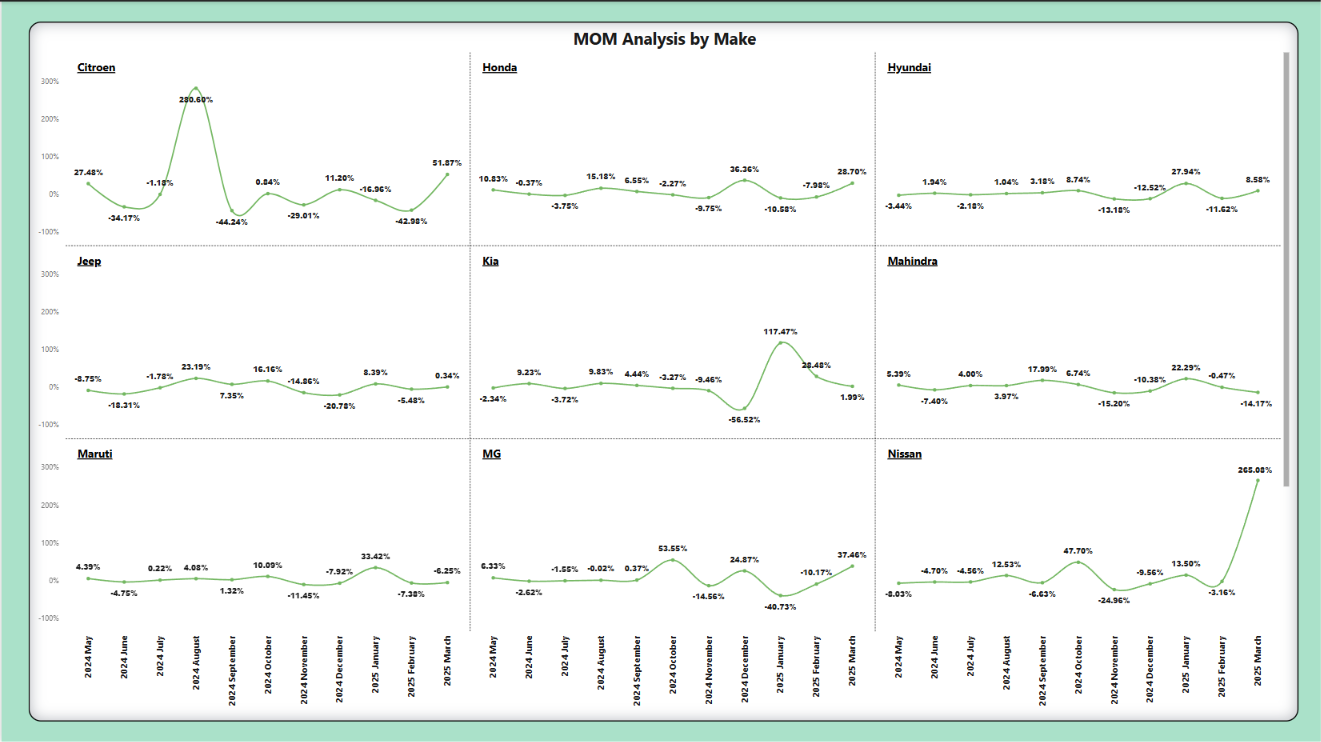

What the dashboard file says about the page in this screenshot:
{"tool":"powerbi","page":{"name":"MOM Analysis 1","canvas":[1920,1080],"ordinal":2},"visuals":[{"type":"image","box":[678.6,28.6,114.3,91.1],"z":0},{"type":"lineChart","title":"MOM Analysis by Make","fields":{"Y":["MEASURE TABLE.MOM"],"Category":["Date Table.Date.Variation.Date Hierarchy.Year","Date Table.Date.Variation.Date Hierarchy.Month"],"Rows":["VISUALISATION.Make"]},"box":[39.3,28.6,1846.4,1017.9],"z":1000}]}

Visuals, with their boxes in screenshot pixels (x1, y1, x2, y2), scaled from the page's 1920x1080 canvas onto the 1321x742 screenshot:
image: l=467, t=20, r=546, b=82
"MOM Analysis by Make" lineChart: l=27, t=20, r=1297, b=719
